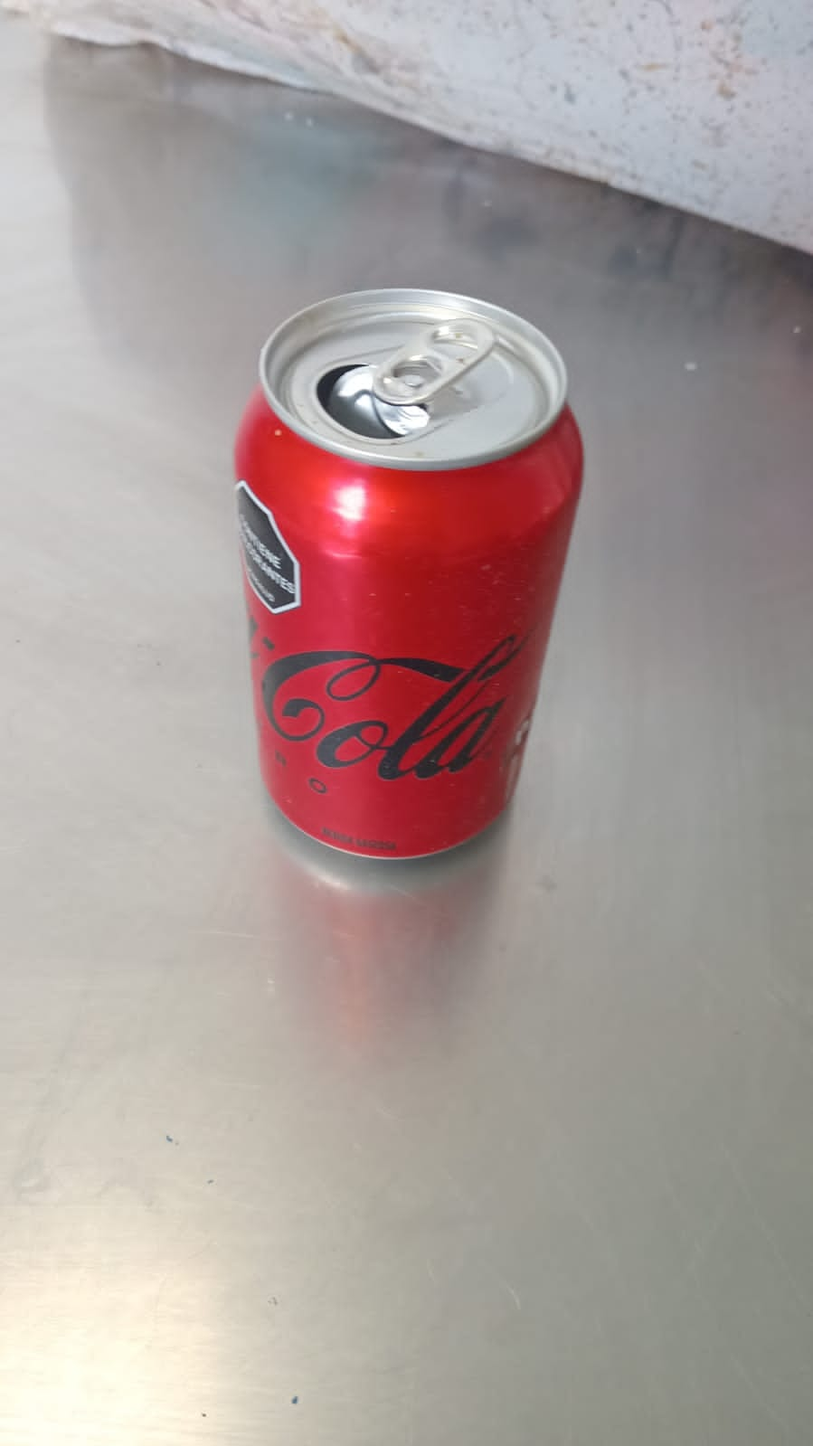Metal: (230, 290, 585, 865)
